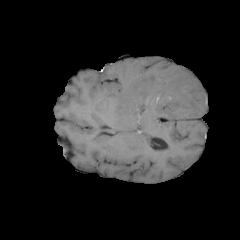glioma: (106, 67, 200, 135)
